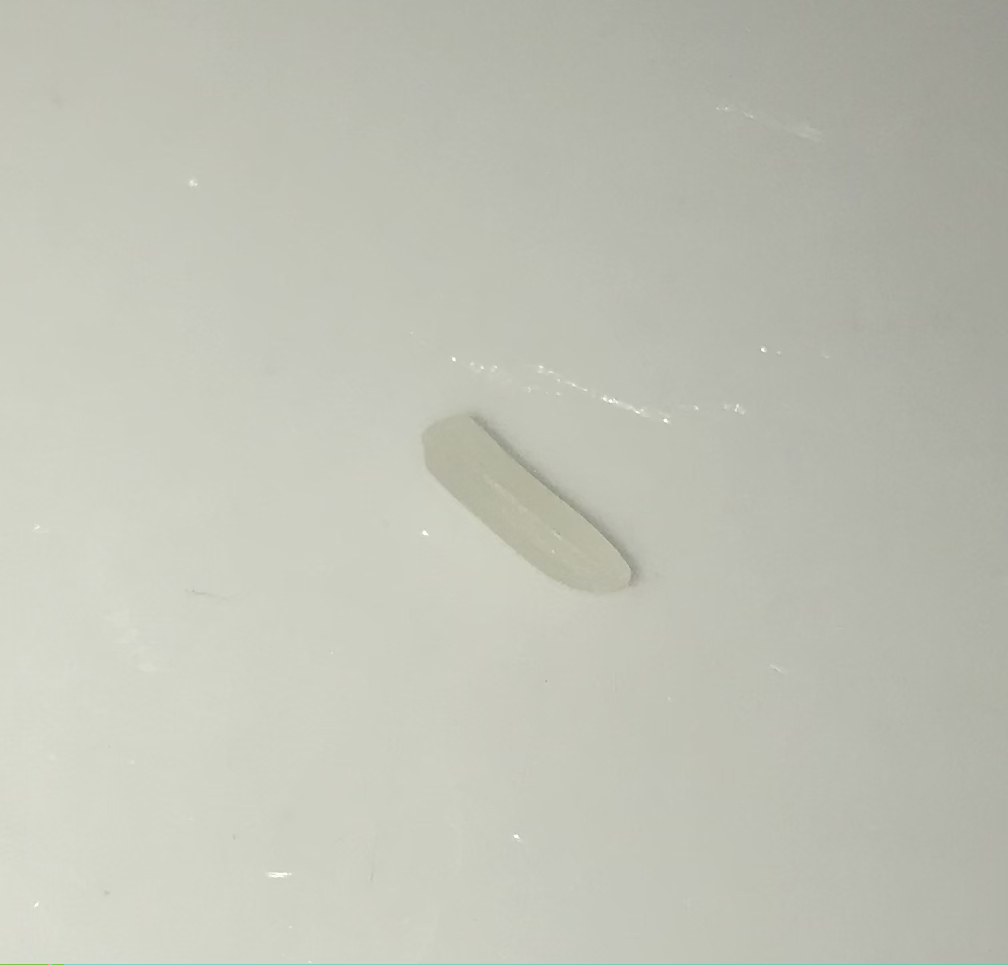Gao Thom Go Cong: (406, 385, 660, 611)
